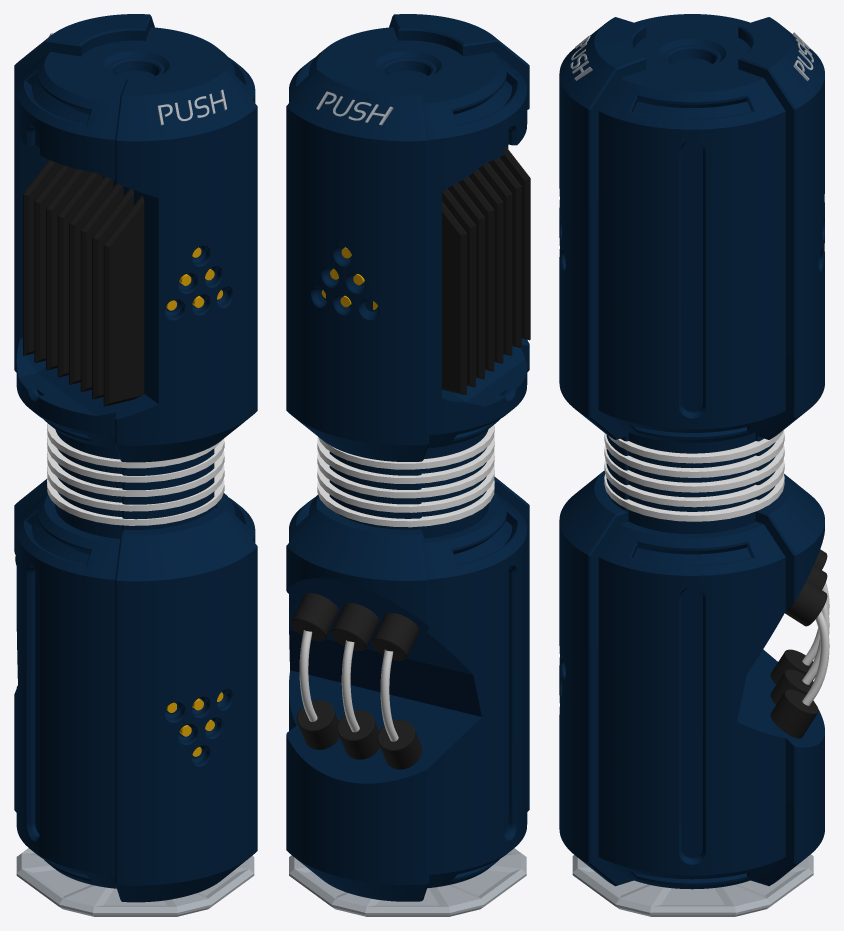
The model's file is switch.fbx.
The picture shows the model from 3 angles, left to right: view 1: azimuth 30°, elevation 25°; view 2: azimuth 150°, elevation 25°; view 3: azimuth 270°, elevation 25°; orthographic projection.
Visible parts, largest first — view 1: switch_a; view 2: switch_a; view 3: switch_a.
Part boxes in pixels (box(x1,y1,x2,y2)): switch_a: box(14, 14, 257, 916); switch_a: box(286, 14, 530, 916); switch_a: box(559, 14, 829, 916).
Size of the model in its own units: 26.73 by 101 by 29.86.
